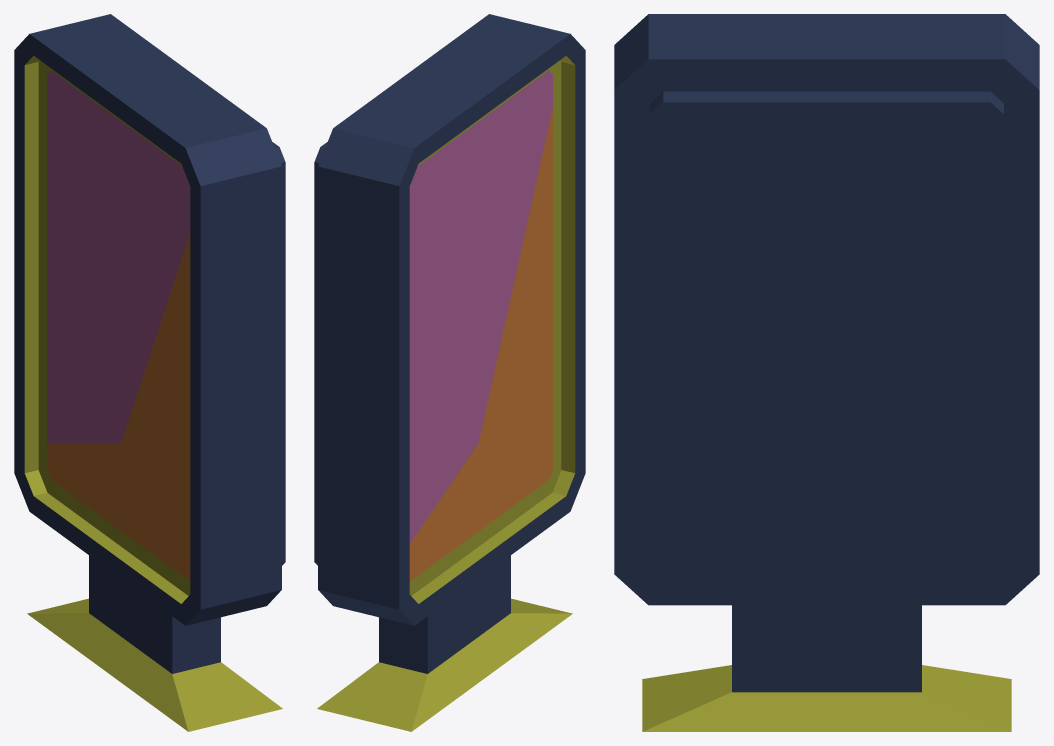
File: AdDisplay05.fbx
3 views of the same model, side by side, from view 1: azimuth 30°, elevation 25°; view 2: azimuth 150°, elevation 25°; view 3: azimuth 270°, elevation 25° (orthographic). The views are drawn at different scales.
Visible parts, largest first — view 1: AdDisplay05; view 2: AdDisplay05; view 3: AdDisplay05.
Boxes of the visible parts, x1,y1,x2,y2 form: AdDisplay05: (14,14,285,731); AdDisplay05: (314,14,585,731); AdDisplay05: (614,14,1039,731).
Size of the model in its own units: 51.29 by 284 by 164.
